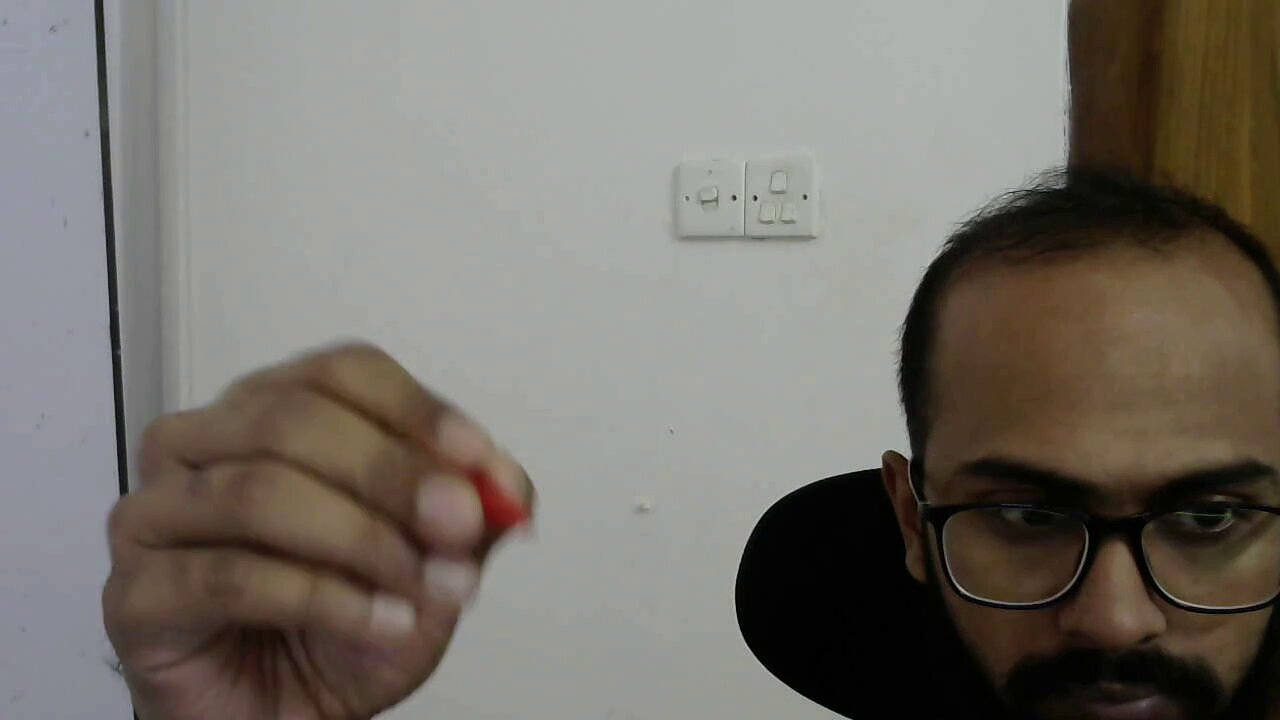pointer: (113, 343, 541, 704)
